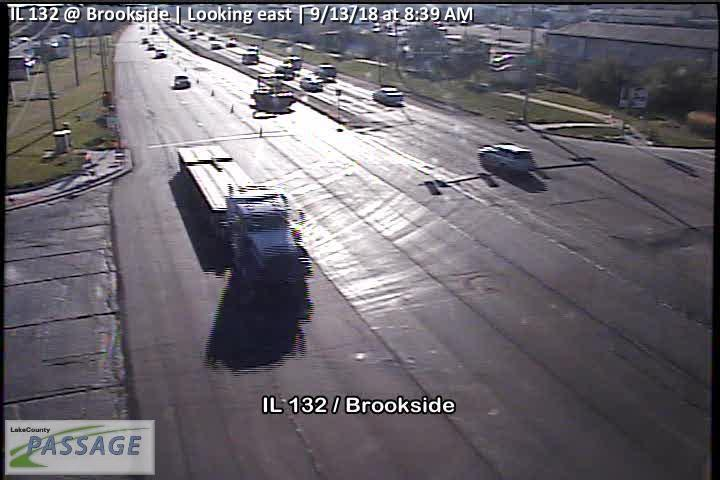Sedan: (372, 86, 404, 104)
Truck: (177, 146, 311, 286), (478, 143, 532, 173)
